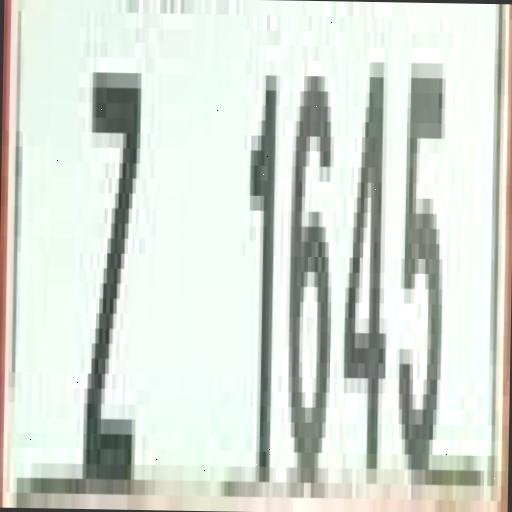number plate: (0, 10, 495, 501)
